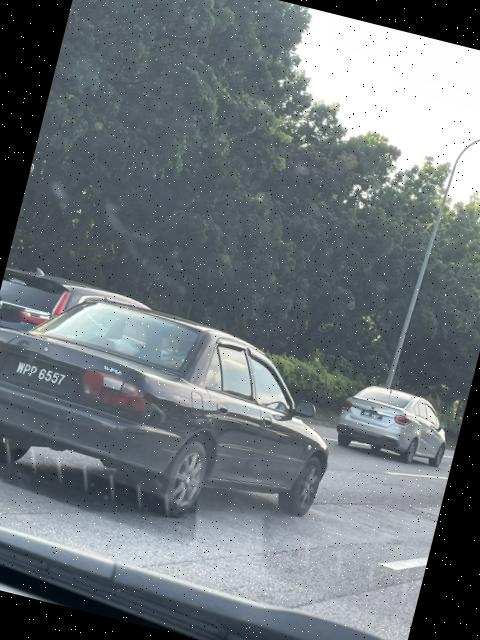License_Plate: (5, 354, 77, 399)
car: (1, 265, 352, 544)
